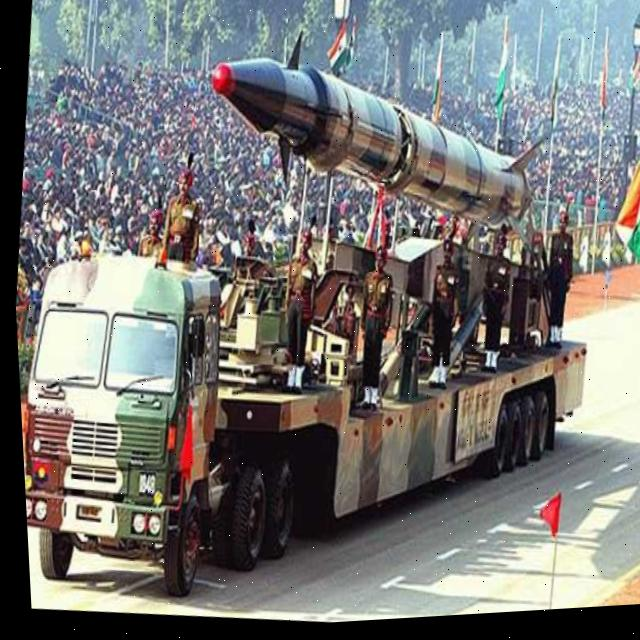missile: (197, 9, 553, 255)
